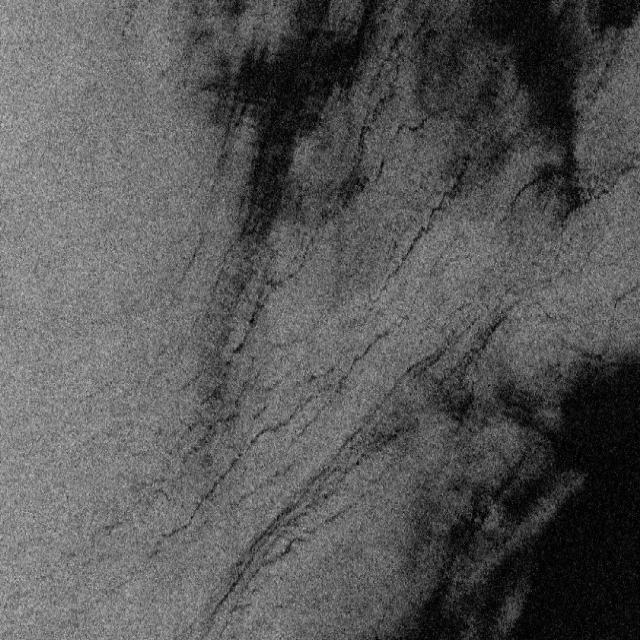look-alike: (157, 346, 425, 606), (452, 353, 632, 631), (412, 10, 629, 231), (208, 12, 366, 225)
